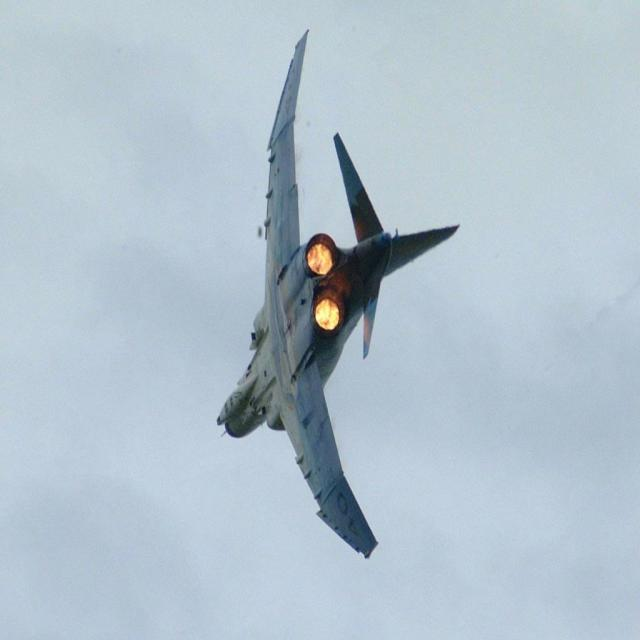MIL_Plane: (215, 28, 462, 560)
